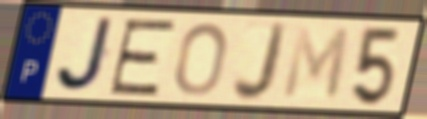5: (347, 25, 402, 109)
E: (105, 18, 180, 98)
J: (230, 19, 291, 105), (54, 15, 118, 95)
M: (279, 24, 353, 103)
O: (172, 20, 231, 98)
